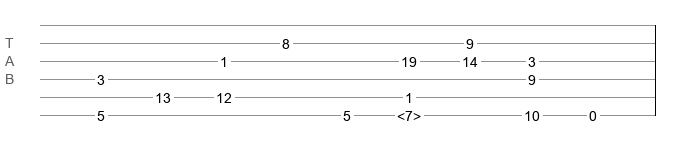0: (589, 108, 597, 118)
1: (220, 54, 228, 64), (405, 90, 413, 100)
10: (524, 108, 540, 118)
12: (216, 90, 232, 100)
13: (155, 90, 171, 100)
14: (462, 54, 478, 64)
19: (401, 54, 417, 64)
3: (97, 72, 105, 82), (528, 54, 536, 64)
5: (97, 108, 105, 118), (343, 108, 351, 118)
8: (282, 36, 290, 46)
9: (466, 36, 474, 46), (528, 72, 536, 82)
harmonic: (397, 108, 421, 118)
